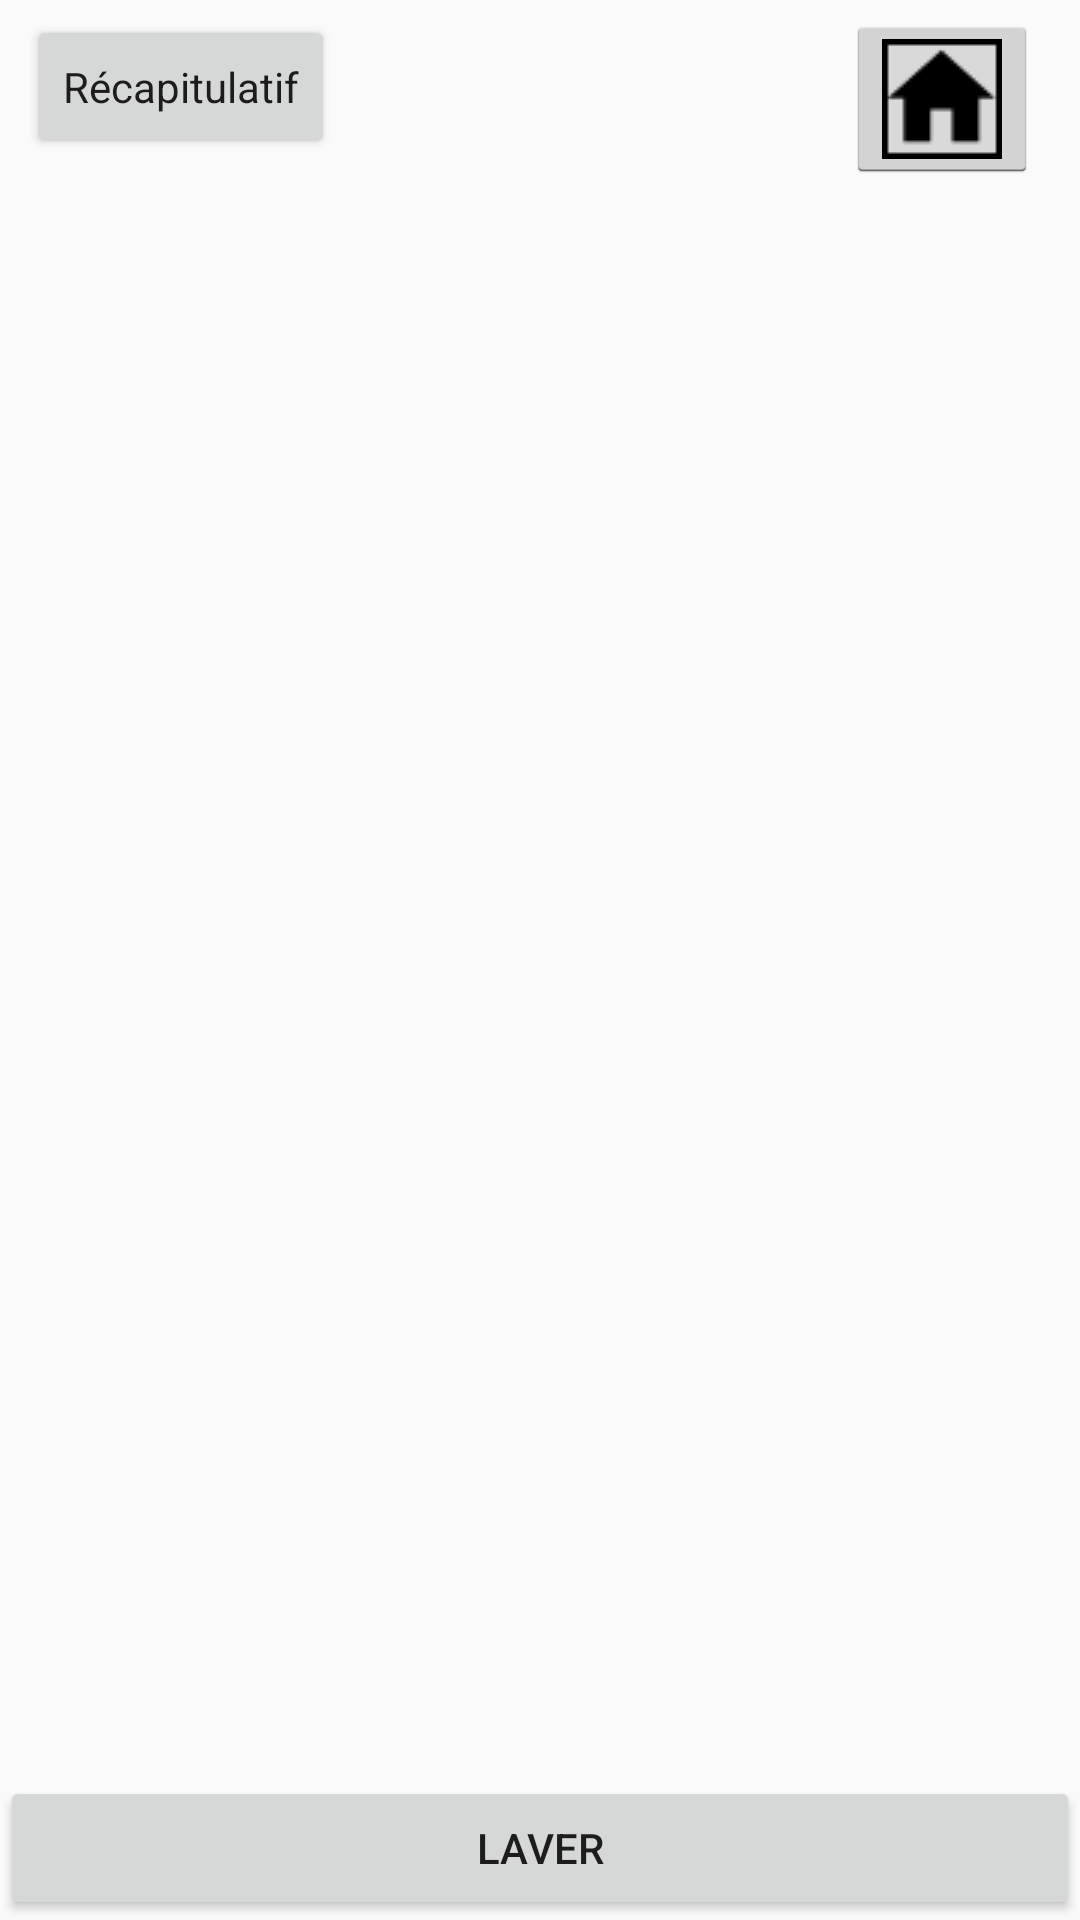

Icons on this 1080 × 1920 Android screen, each with the point to tap as point (x, y):
home: point (942, 100)
